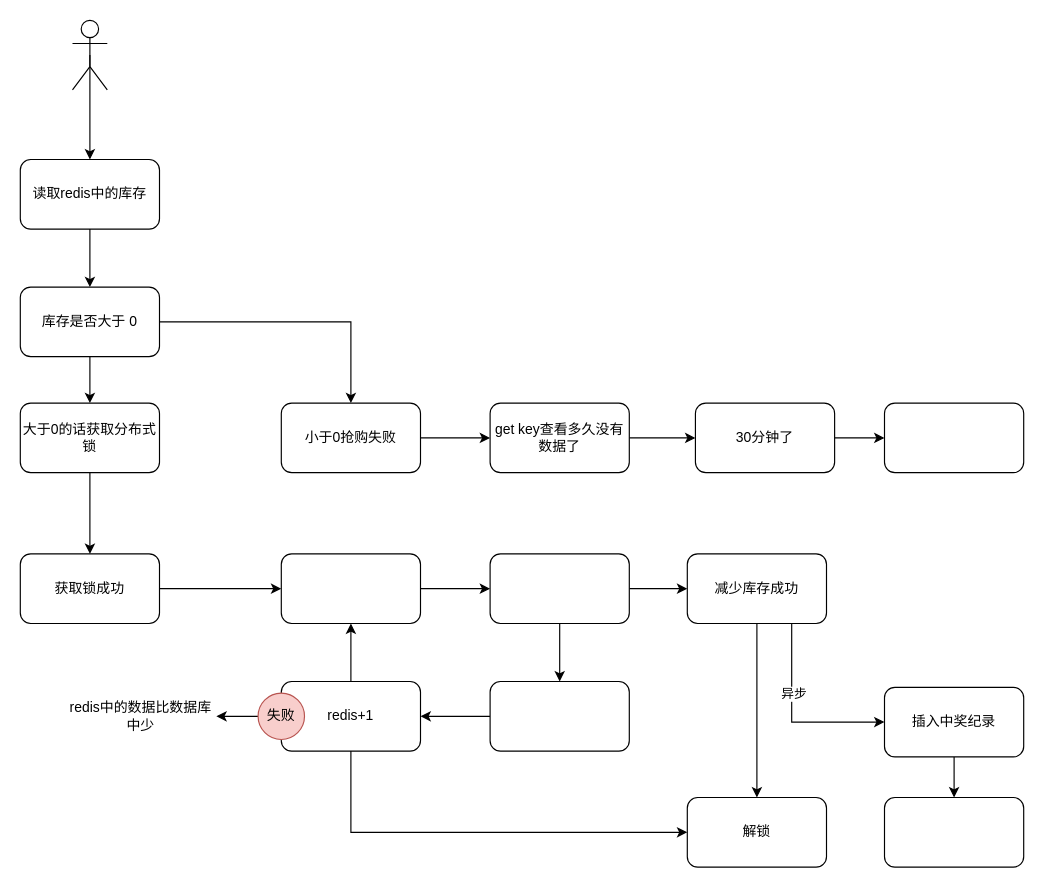
The diagram is 1044 pixels wide and 887 high, and some of its shapes have lost their labels. The shapes that lost their labels are listed below. From the top down, each one's centre as x and y in pixels, then its label:
the point at 89,54: Actor
the point at 953,437: 查库存并放入redis中
the point at 350,588: 减少redis库存量
the point at 559,588: 减少数据库库存
the point at 559,715: 减少库存失败
the point at 953,831: 重试插入3次就添加到手动处理
